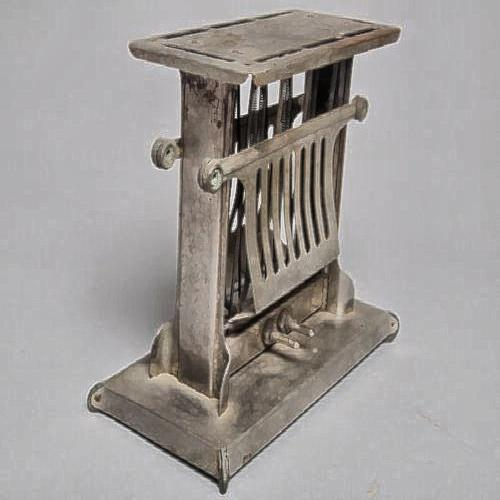toaster: (119, 14, 405, 457)
